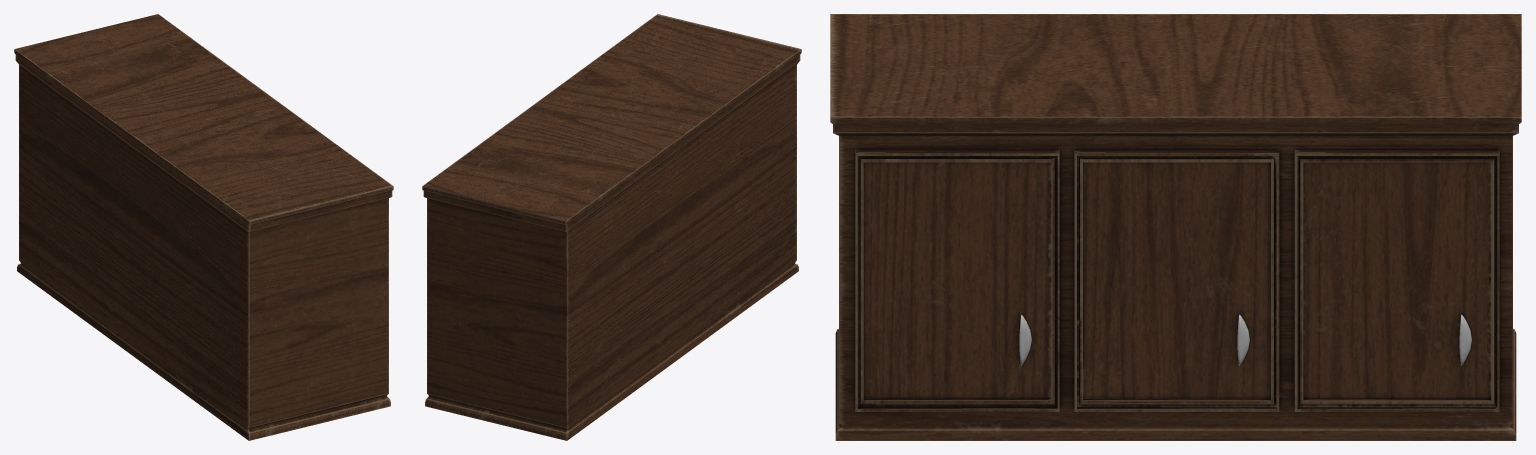
Rendered from hanging_kitchen_cupboards (1).glb.
The picture shows the model from 3 angles, left to right: view 1: azimuth 30°, elevation 25°; view 2: azimuth 150°, elevation 25°; view 3: azimuth 270°, elevation 25°; orthographic projection. The views are drawn at different scales.
Parts seen in each view (by area): view 1: Main_Wood_Frame; view 2: Main_Wood_Frame; view 3: Doors, Main_Wood_Frame, Handles.
Part boxes in pixels (x1=…): Main_Wood_Frame: x1=14, y1=14, x2=393, y2=440; Main_Wood_Frame: x1=422, y1=14, x2=801, y2=440; Doors: x1=855, y1=149, x2=1499, y2=411; Main_Wood_Frame: x1=830, y1=14, x2=1521, y2=440; Handles: x1=1019, y1=314, x2=1471, y2=365.
Size of the model in its own units: 0.0212 by 0.0301 by 0.058.
Materials: 3 (3 with a texture image).
